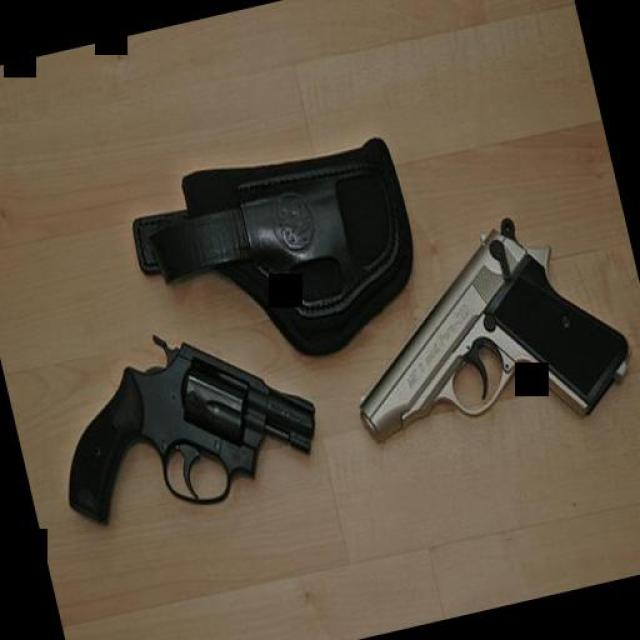gun: (323, 195, 638, 464), (28, 298, 332, 532)
